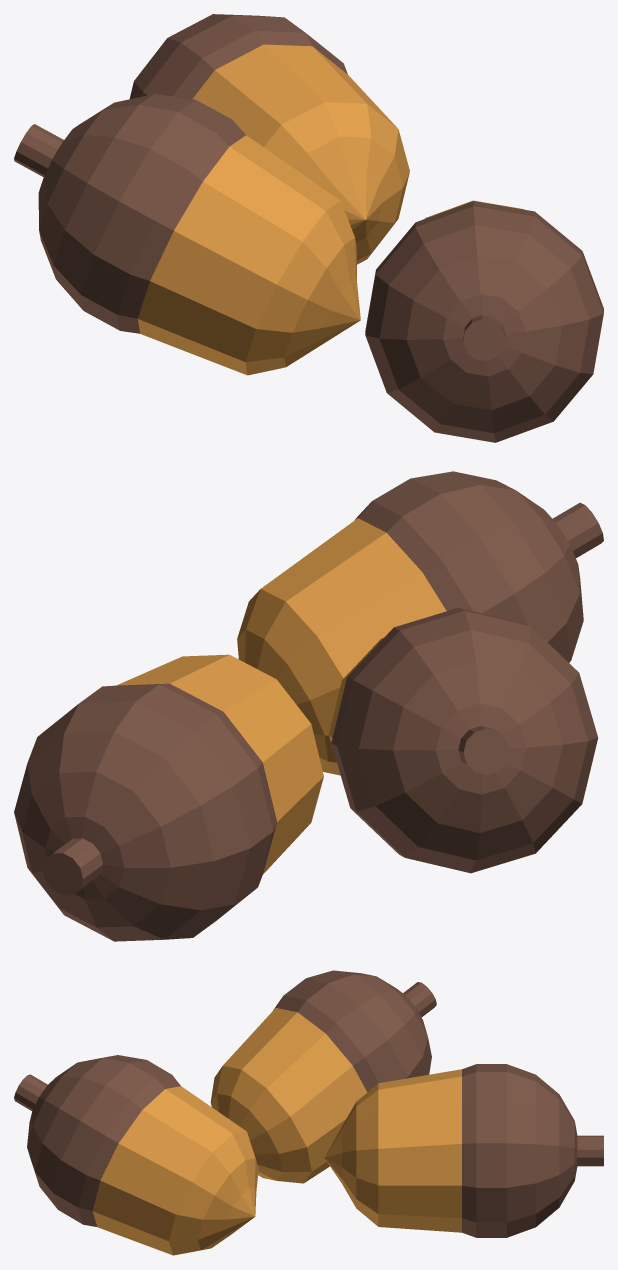
File: zoledzie.glb
3 views of the same model, one above another, from view 1: azimuth 30°, elevation 25°; view 2: azimuth 150°, elevation 25°; view 3: azimuth 270°, elevation 25° (orthographic). The views are drawn at different scales.
Visible parts, largest first — view 1: Node; view 2: Node; view 3: Node.
Boxes of the visible parts, x1,y1,x2,y2 form: Node: [14, 14, 603, 442]; Node: [14, 471, 603, 941]; Node: [14, 970, 603, 1255].
Bounding box in the file's own units: 0.8899 × 0.5521 × 1.52.
